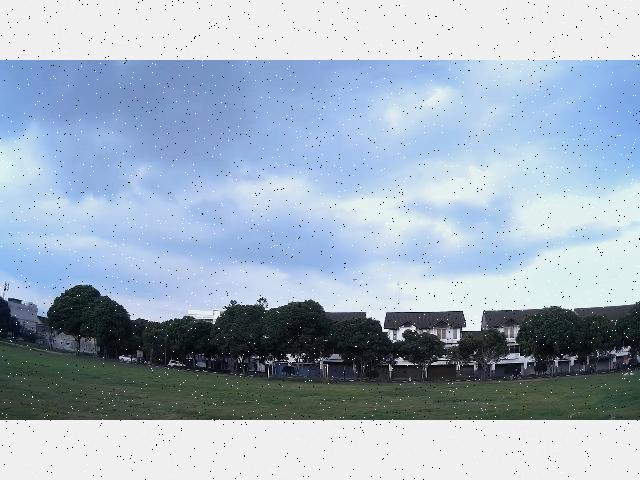Anti-Drone: (346, 276, 372, 288)
